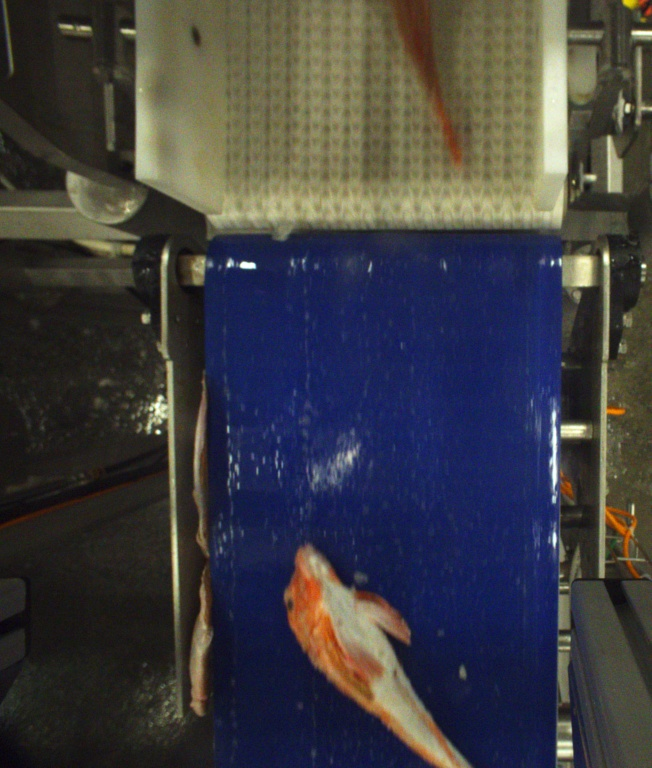GUU: (277, 543, 474, 768)
